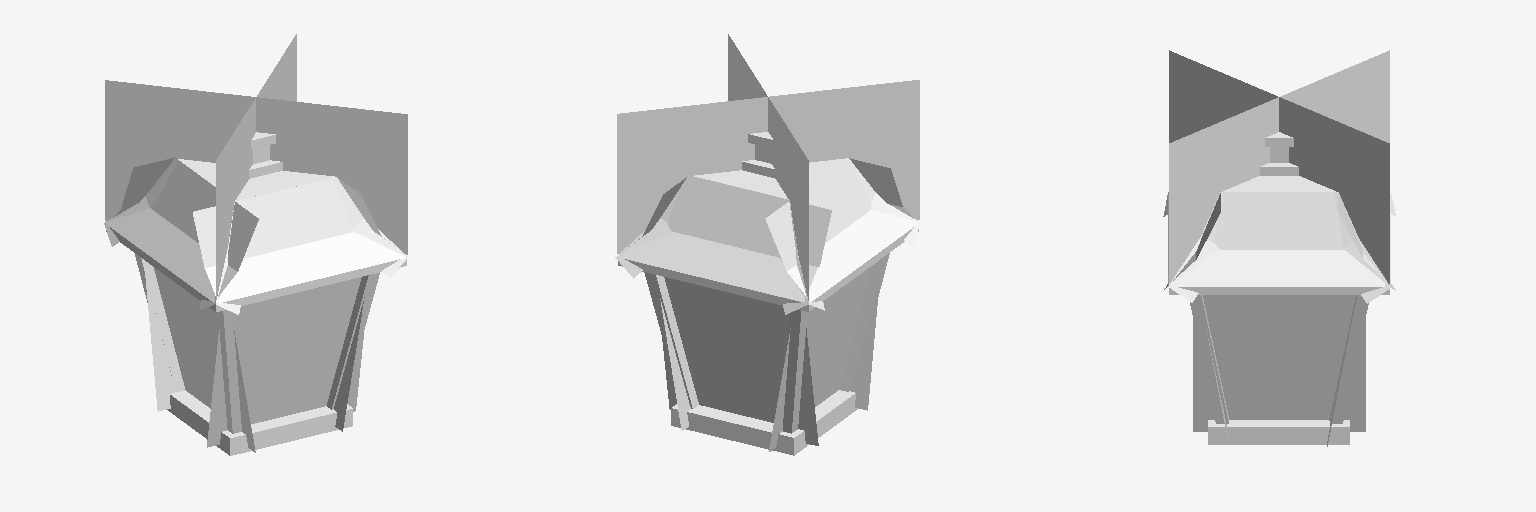
Rendered from ship_lantern.obj.
The picture shows the model from 3 angles: view 1: azimuth 30°, elevation 25°; view 2: azimuth 150°, elevation 25°; view 3: azimuth 270°, elevation 25°; orthographic projection.
Visible parts, largest first — view 1: top.004, side.001, south, south.000, side.000, top.005, bottom, west.000, west, top, corner4, top.000 (+6 smaller); view 2: top.005, side, north, north.000, side.000, top.004, bottom, west.000, west, top, corner1, corner2 (+7 smaller); view 3: side.002, top.005, top.004, east, east.000, bottom, corner3, corner2, top, top.000, top_corner_tip2, top_corner_tip3.
Boxes of the visible parts, x1,y1,x2,y2 form: top.004: [105, 80, 407, 254]; side.001: [207, 277, 363, 447]; south: [193, 177, 352, 267]; south.000: [205, 232, 404, 302]; side.000: [154, 267, 255, 452]; top.005: [216, 34, 296, 299]; bottom: [167, 390, 352, 455]; west.000: [106, 208, 236, 302]; west: [152, 158, 258, 271]; top: [106, 227, 406, 311]; corner4: [217, 310, 241, 433]; top.000: [178, 159, 334, 200]; top.005: [617, 80, 919, 253]; side: [662, 277, 818, 445]; north: [667, 175, 831, 266]; north.000: [622, 232, 817, 302]; side.000: [769, 267, 870, 451]; top.004: [728, 34, 808, 300]; bottom: [671, 390, 858, 455]; west.000: [787, 210, 917, 301]; west: [765, 158, 870, 270]; top: [618, 227, 918, 311]; corner1: [783, 310, 806, 433]; corner2: [644, 272, 698, 408]; side.002: [1193, 295, 1365, 431]; top.005: [1169, 50, 1389, 283]; top.004: [1169, 50, 1389, 283]; east: [1214, 192, 1343, 249]; east.000: [1172, 250, 1384, 286]; bottom: [1208, 420, 1349, 444]; corner3: [1190, 295, 1228, 423]; corner2: [1329, 295, 1368, 423]; top: [1169, 287, 1389, 294]; top.000: [1223, 176, 1335, 191]; top_corner_tip2: [1164, 237, 1219, 302]; top_corner_tip3: [1343, 239, 1395, 303].
Bounding box in the file's own units: 0.7455 × 1.12 × 0.7452.